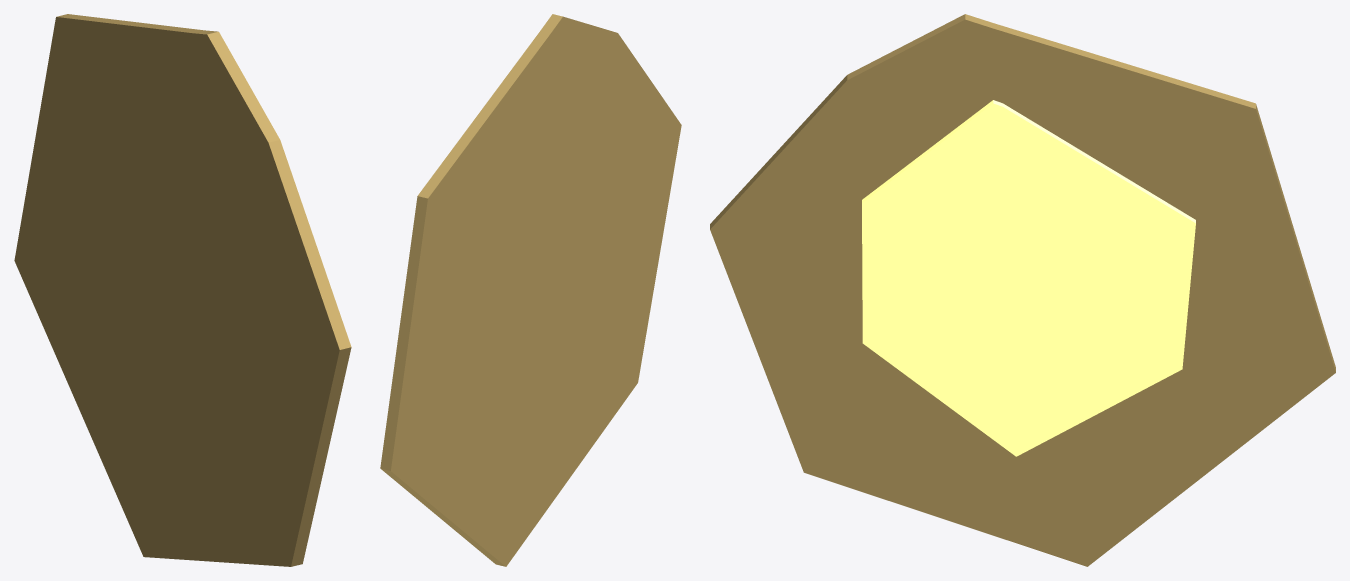
Rendered from center 1.fbx.
The picture shows the model from 3 angles, left to right: view 1: azimuth 30°, elevation 25°; view 2: azimuth 150°, elevation 25°; view 3: azimuth 270°, elevation 25°; orthographic projection. The views are drawn at different scales.
Visible parts, largest first — view 1: Plane.081; view 2: Plane.081; view 3: Plane.081, Plane.082.
Part boxes in pixels (bbox=[...]): Plane.081: bbox=[14, 14, 351, 566]; Plane.081: bbox=[380, 14, 681, 566]; Plane.081: bbox=[710, 14, 1335, 566]; Plane.082: bbox=[862, 100, 1195, 456].
Size of the model in its own units: 10.31 by 245 by 254.
